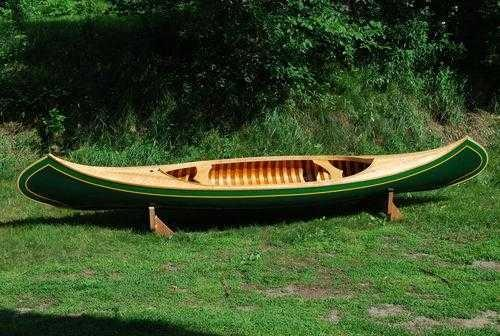kayak: (19, 140, 481, 226)
